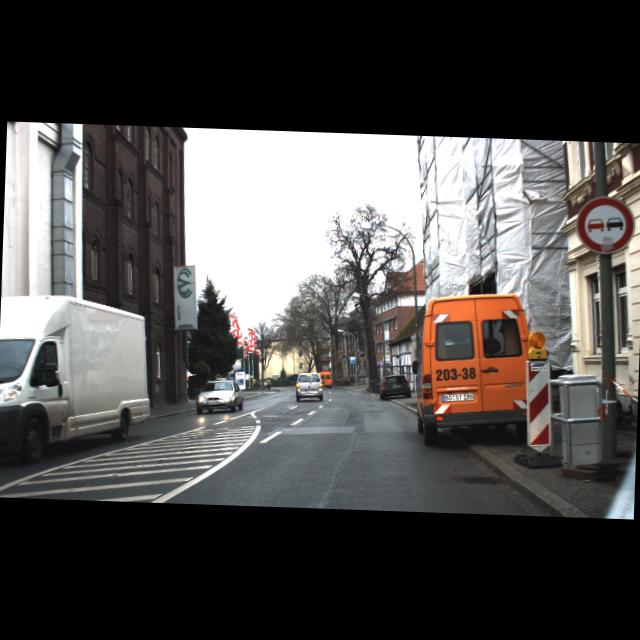prohibitory: (574, 196, 635, 254)
